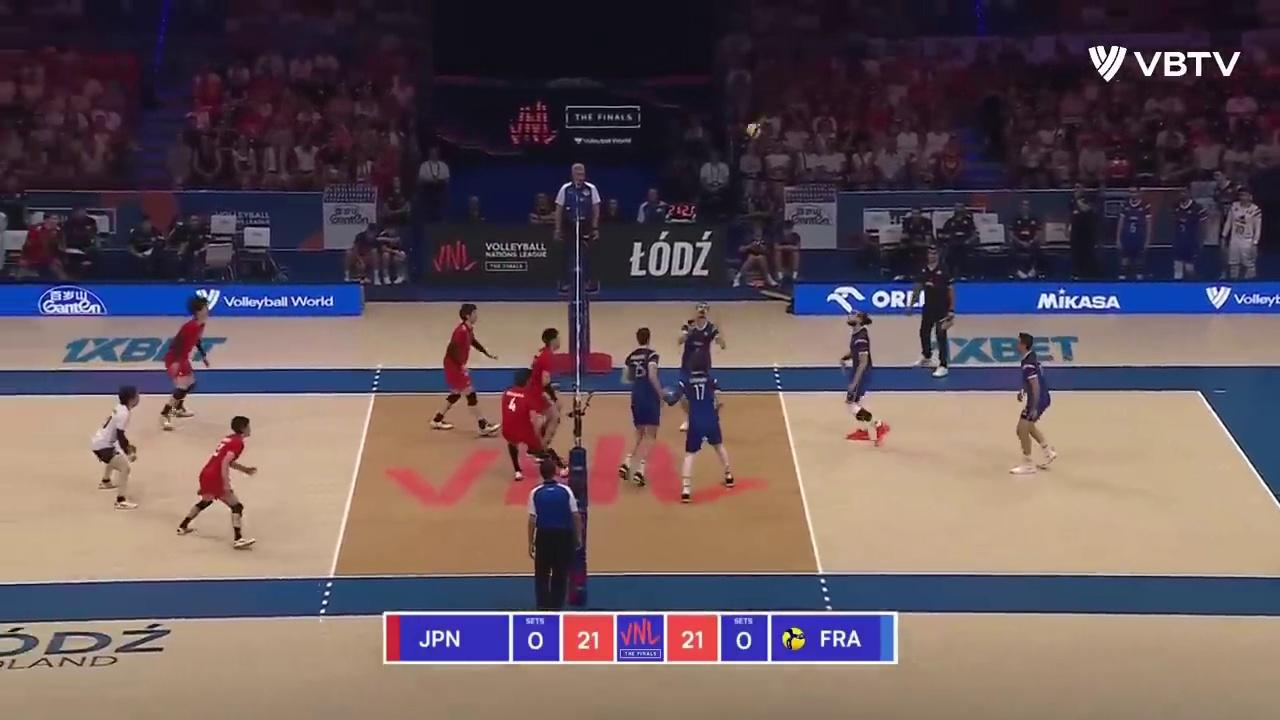ball: (745, 122, 762, 141)
